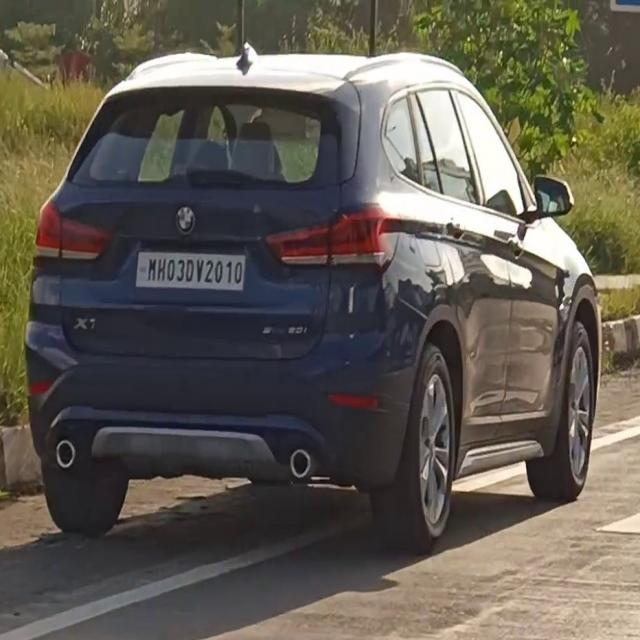Plate: (136, 252, 246, 290)
